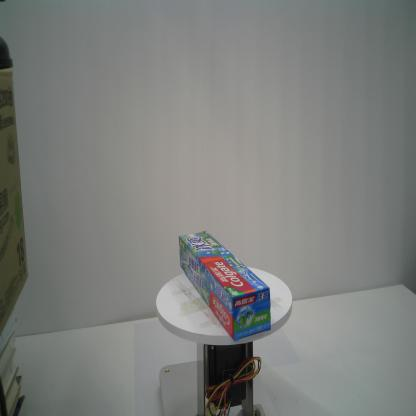Personal Hygiene: (178, 231, 272, 342)
